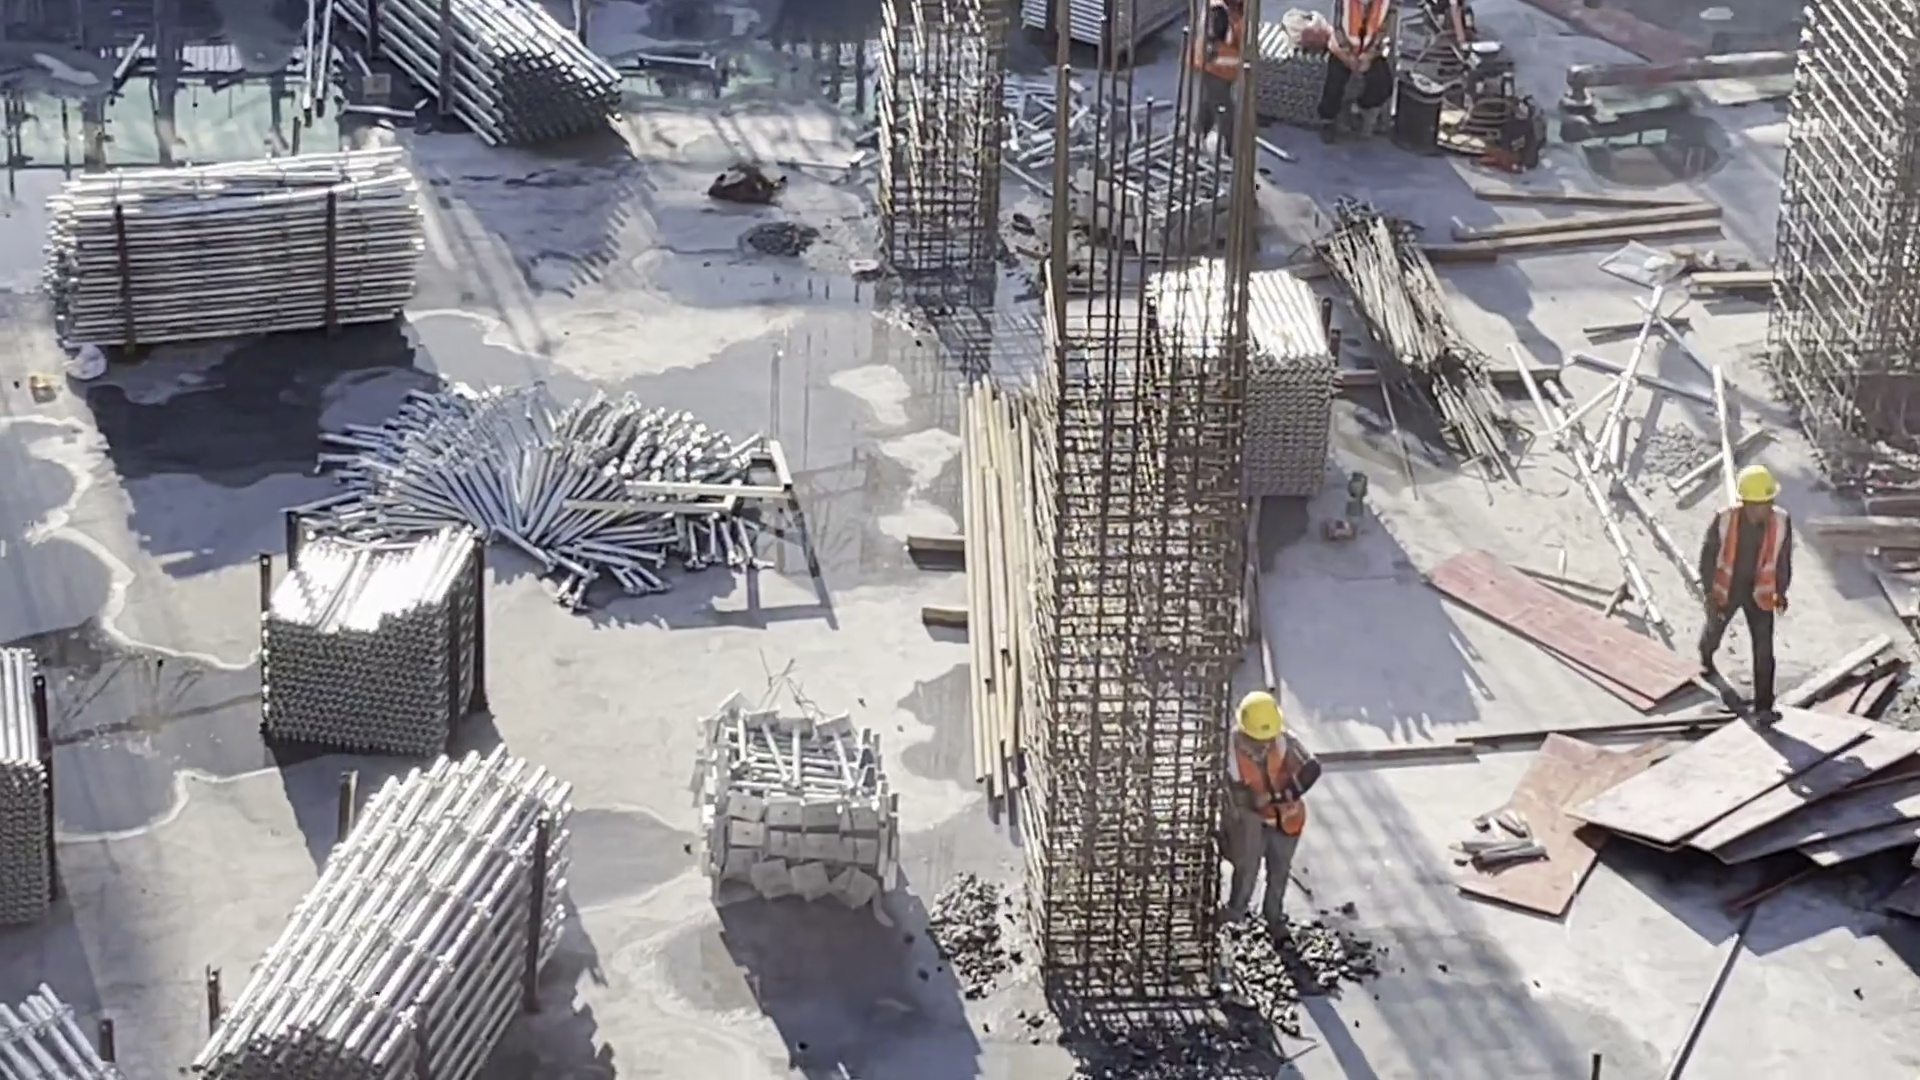board: (1599, 703, 1920, 871)
helmet: (1236, 698, 1285, 741), (1730, 463, 1778, 501)
person: (1695, 452, 1796, 726), (1223, 690, 1319, 938), (1322, 1, 1408, 142), (1196, 1, 1259, 148)
scaffold: (214, 751, 606, 1079), (335, 364, 767, 608), (45, 165, 418, 336), (1133, 251, 1359, 517), (676, 692, 913, 918), (269, 518, 487, 755), (349, 1, 629, 149), (1080, 122, 1269, 269), (1, 604, 56, 928), (1214, 26, 1391, 113), (1, 969, 135, 1079), (1019, 1, 1186, 60)
vest: (1227, 737, 1317, 832), (1710, 510, 1786, 615), (1200, 1, 1249, 81), (1340, 1, 1386, 68)
